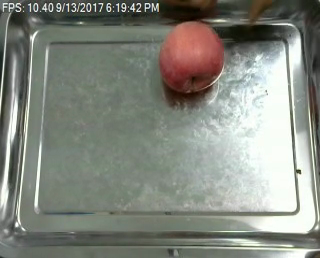Apple: (157, 18, 225, 94)
